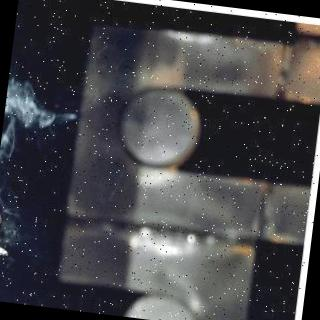smoke: (0, 66, 82, 161)
